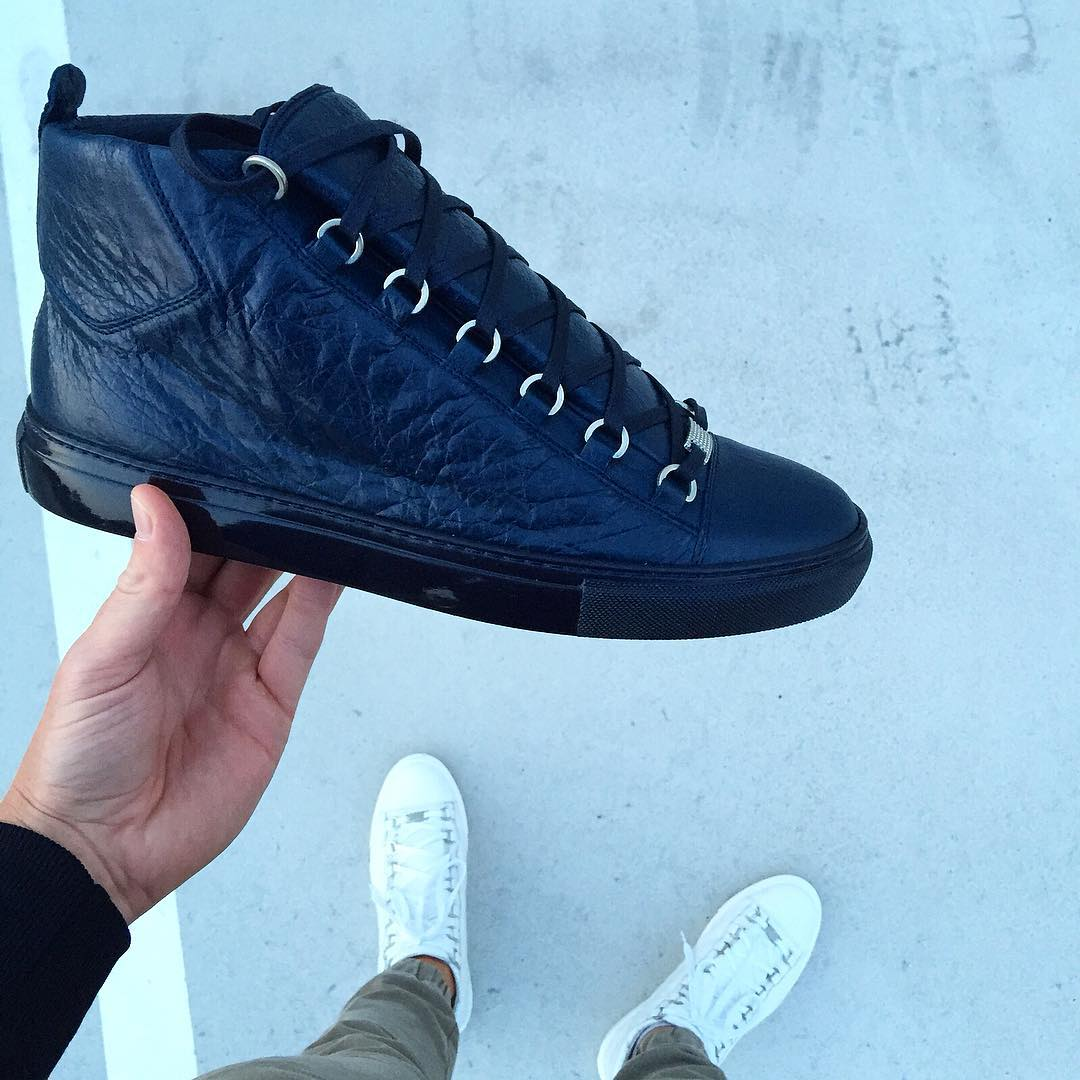sneaker: (318, 740, 528, 1057), (573, 845, 847, 1080)
